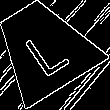L_NW: (15, 18, 71, 77)
